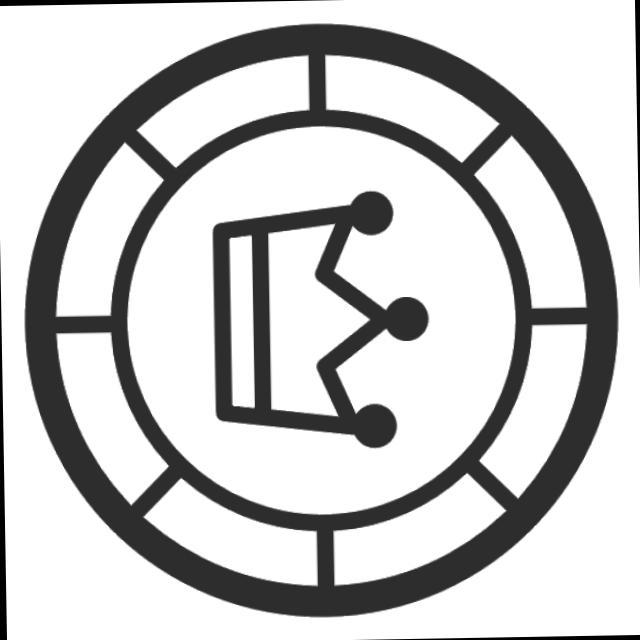coin: (6, 10, 634, 632)
